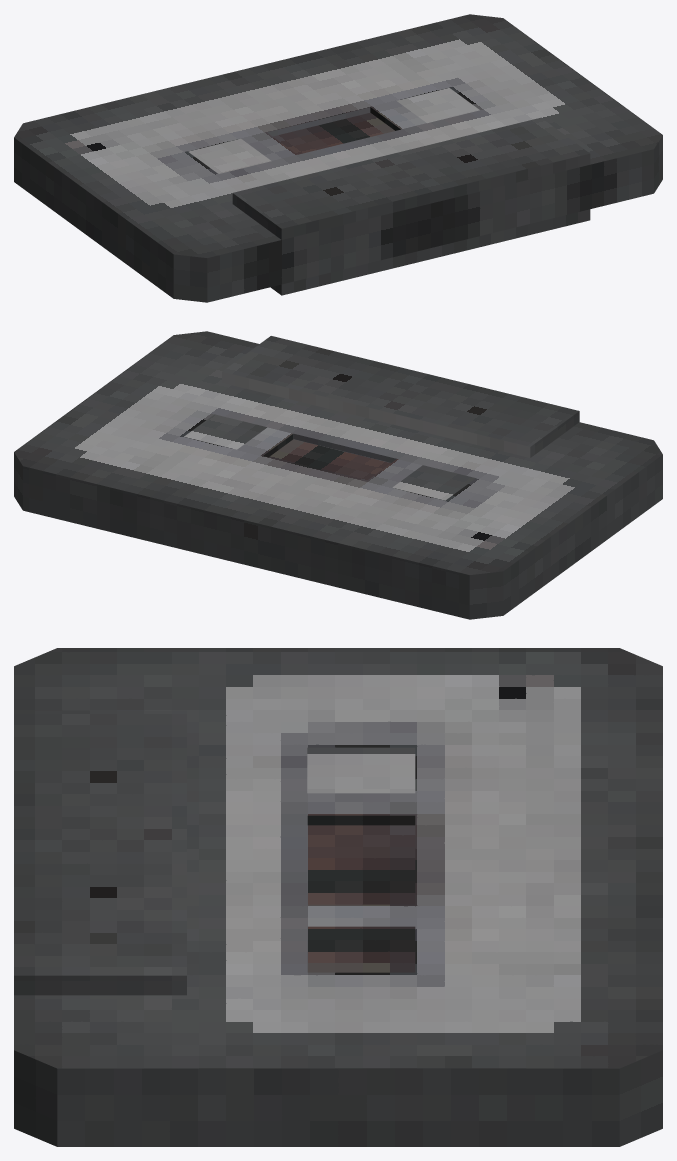
The model's file is cassette_tape_mp_2.dae.
The picture shows the model from 3 angles, top to bottom: view 1: azimuth 30°, elevation 25°; view 2: azimuth 150°, elevation 25°; view 3: azimuth 270°, elevation 25°; orthographic projection. The views are drawn at different scales.
Visible parts, largest first — view 1: cassette_tape_mp_2; view 2: cassette_tape_mp_2; view 3: cassette_tape_mp_2.
Boxes of the visible parts, <box> form: cassette_tape_mp_2: <box>14,14,662,302</box>; cassette_tape_mp_2: <box>14,331,662,619</box>; cassette_tape_mp_2: <box>14,648,662,1146</box>.
Bounding box in the file's own units: 0.1656 × 0.108 × 0.0216.
1 material, 1 textured.
